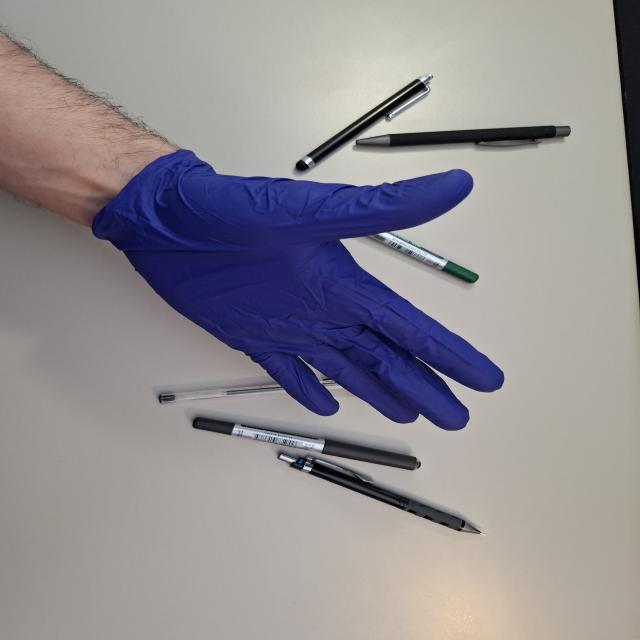glove_on: (88, 147, 509, 436)
